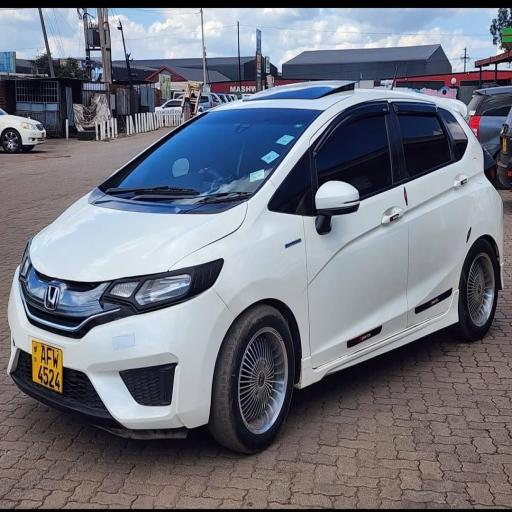number-plates: (31, 335, 64, 393)
